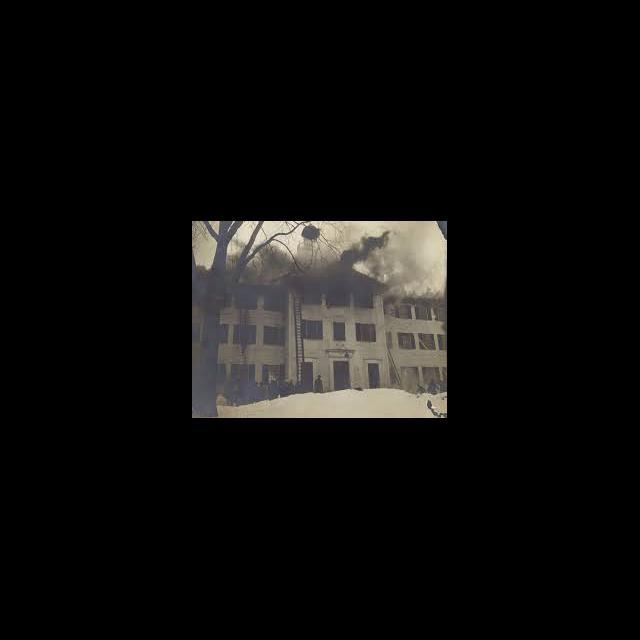Smoke: (336, 230, 428, 294)
